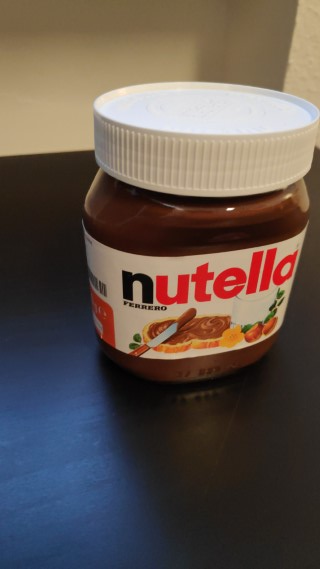nutella: (79, 79, 320, 385)
